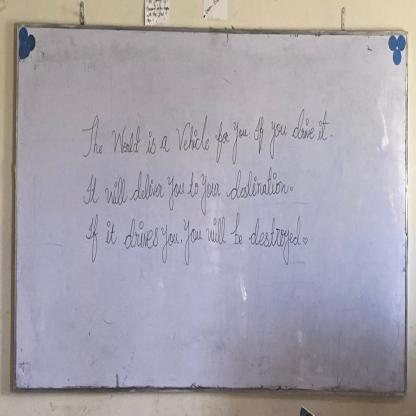Handwritten text: (80, 98, 330, 165), (81, 209, 303, 274), (76, 162, 292, 217)
Whiteboard: (9, 23, 413, 396)
